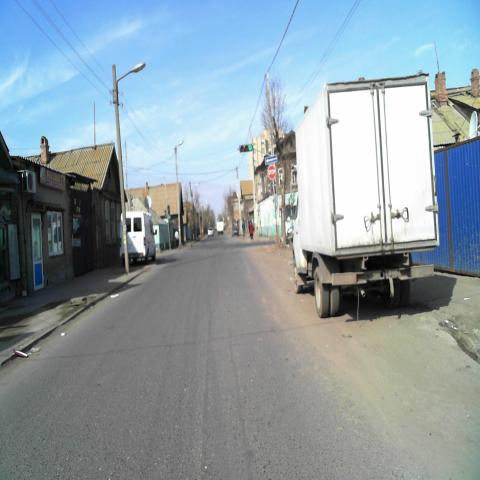5_7_2: (265, 154, 277, 164)
